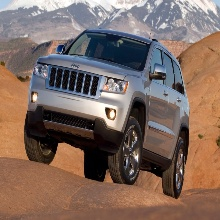no damage: (24, 28, 185, 198)
